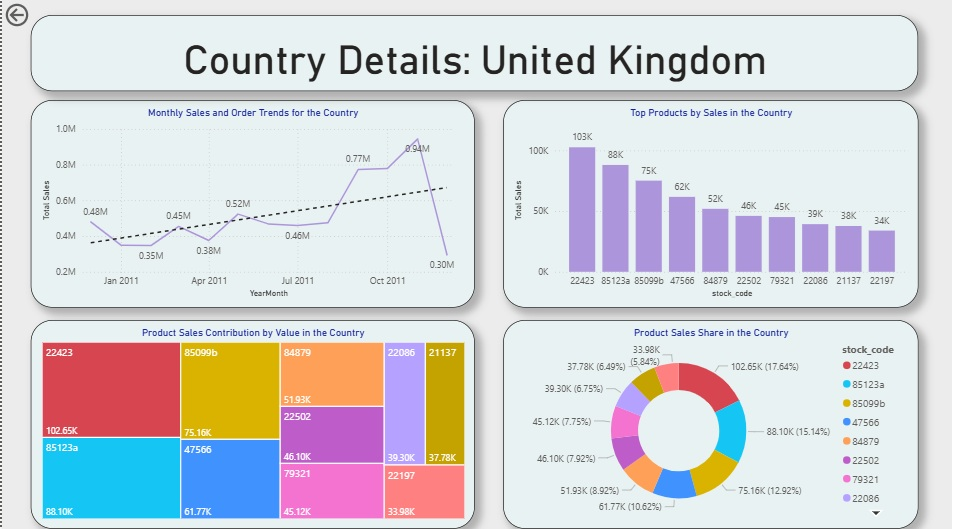

What the dashboard file says about the page in this screenshot:
{"tool":"powerbi","page":{"name":"Drill-through Country","canvas":[1280,720],"ordinal":1},"visuals":[{"type":"actionButton","box":[0,0,100,40],"z":0},{"type":"lineChart","title":"Monthly Sales and Order Trends for the Country","fields":{"Y":["public fact_sales.Total Sales"],"Category":["public fact_sales.YearMonth"]},"box":[38.3,133.3,591.7,276.7],"z":1000},{"type":"card","fields":{"Values":["public fact_sales.DT Title"]},"box":[38.3,20,1183.3,101.7],"z":2000},{"type":"clusteredColumnChart","title":"Top Products by Sales in the Country","fields":{"Category":["public dim_product.stock_code"],"Y":["public fact_sales.Total Sales"]},"box":[668.3,133.3,553.3,276.7],"z":3000},{"type":"treemap","title":"Product Sales Contribution by Value in the Country","fields":{"Group":["public dim_product.stock_code"],"Values":["public fact_sales.Total Sales"]},"box":[38.3,426.7,591.7,278.3],"z":4000},{"type":"donutChart","title":"Product Sales Share in the Country","fields":{"Category":["public dim_product.stock_code"],"Y":["public fact_sales.Total Sales"]},"box":[668.3,426.7,553.3,278.3],"z":5000}]}

Visuals, with their boxes in screenshot pixels (x1, y1, x2, y2), scaled from the page's 1280x720 canvas onto the 953x529 screenshot:
actionButton: locate(0, 0, 74, 29)
"Monthly Sales and Order Trends for the Country" lineChart: locate(29, 98, 469, 301)
card - public fact_sales.DT Title: locate(29, 15, 910, 89)
"Top Products by Sales in the Country" clusteredColumnChart: locate(498, 98, 910, 301)
"Product Sales Contribution by Value in the Country" treemap: locate(29, 314, 469, 518)
"Product Sales Share in the Country" donutChart: locate(498, 314, 910, 518)
